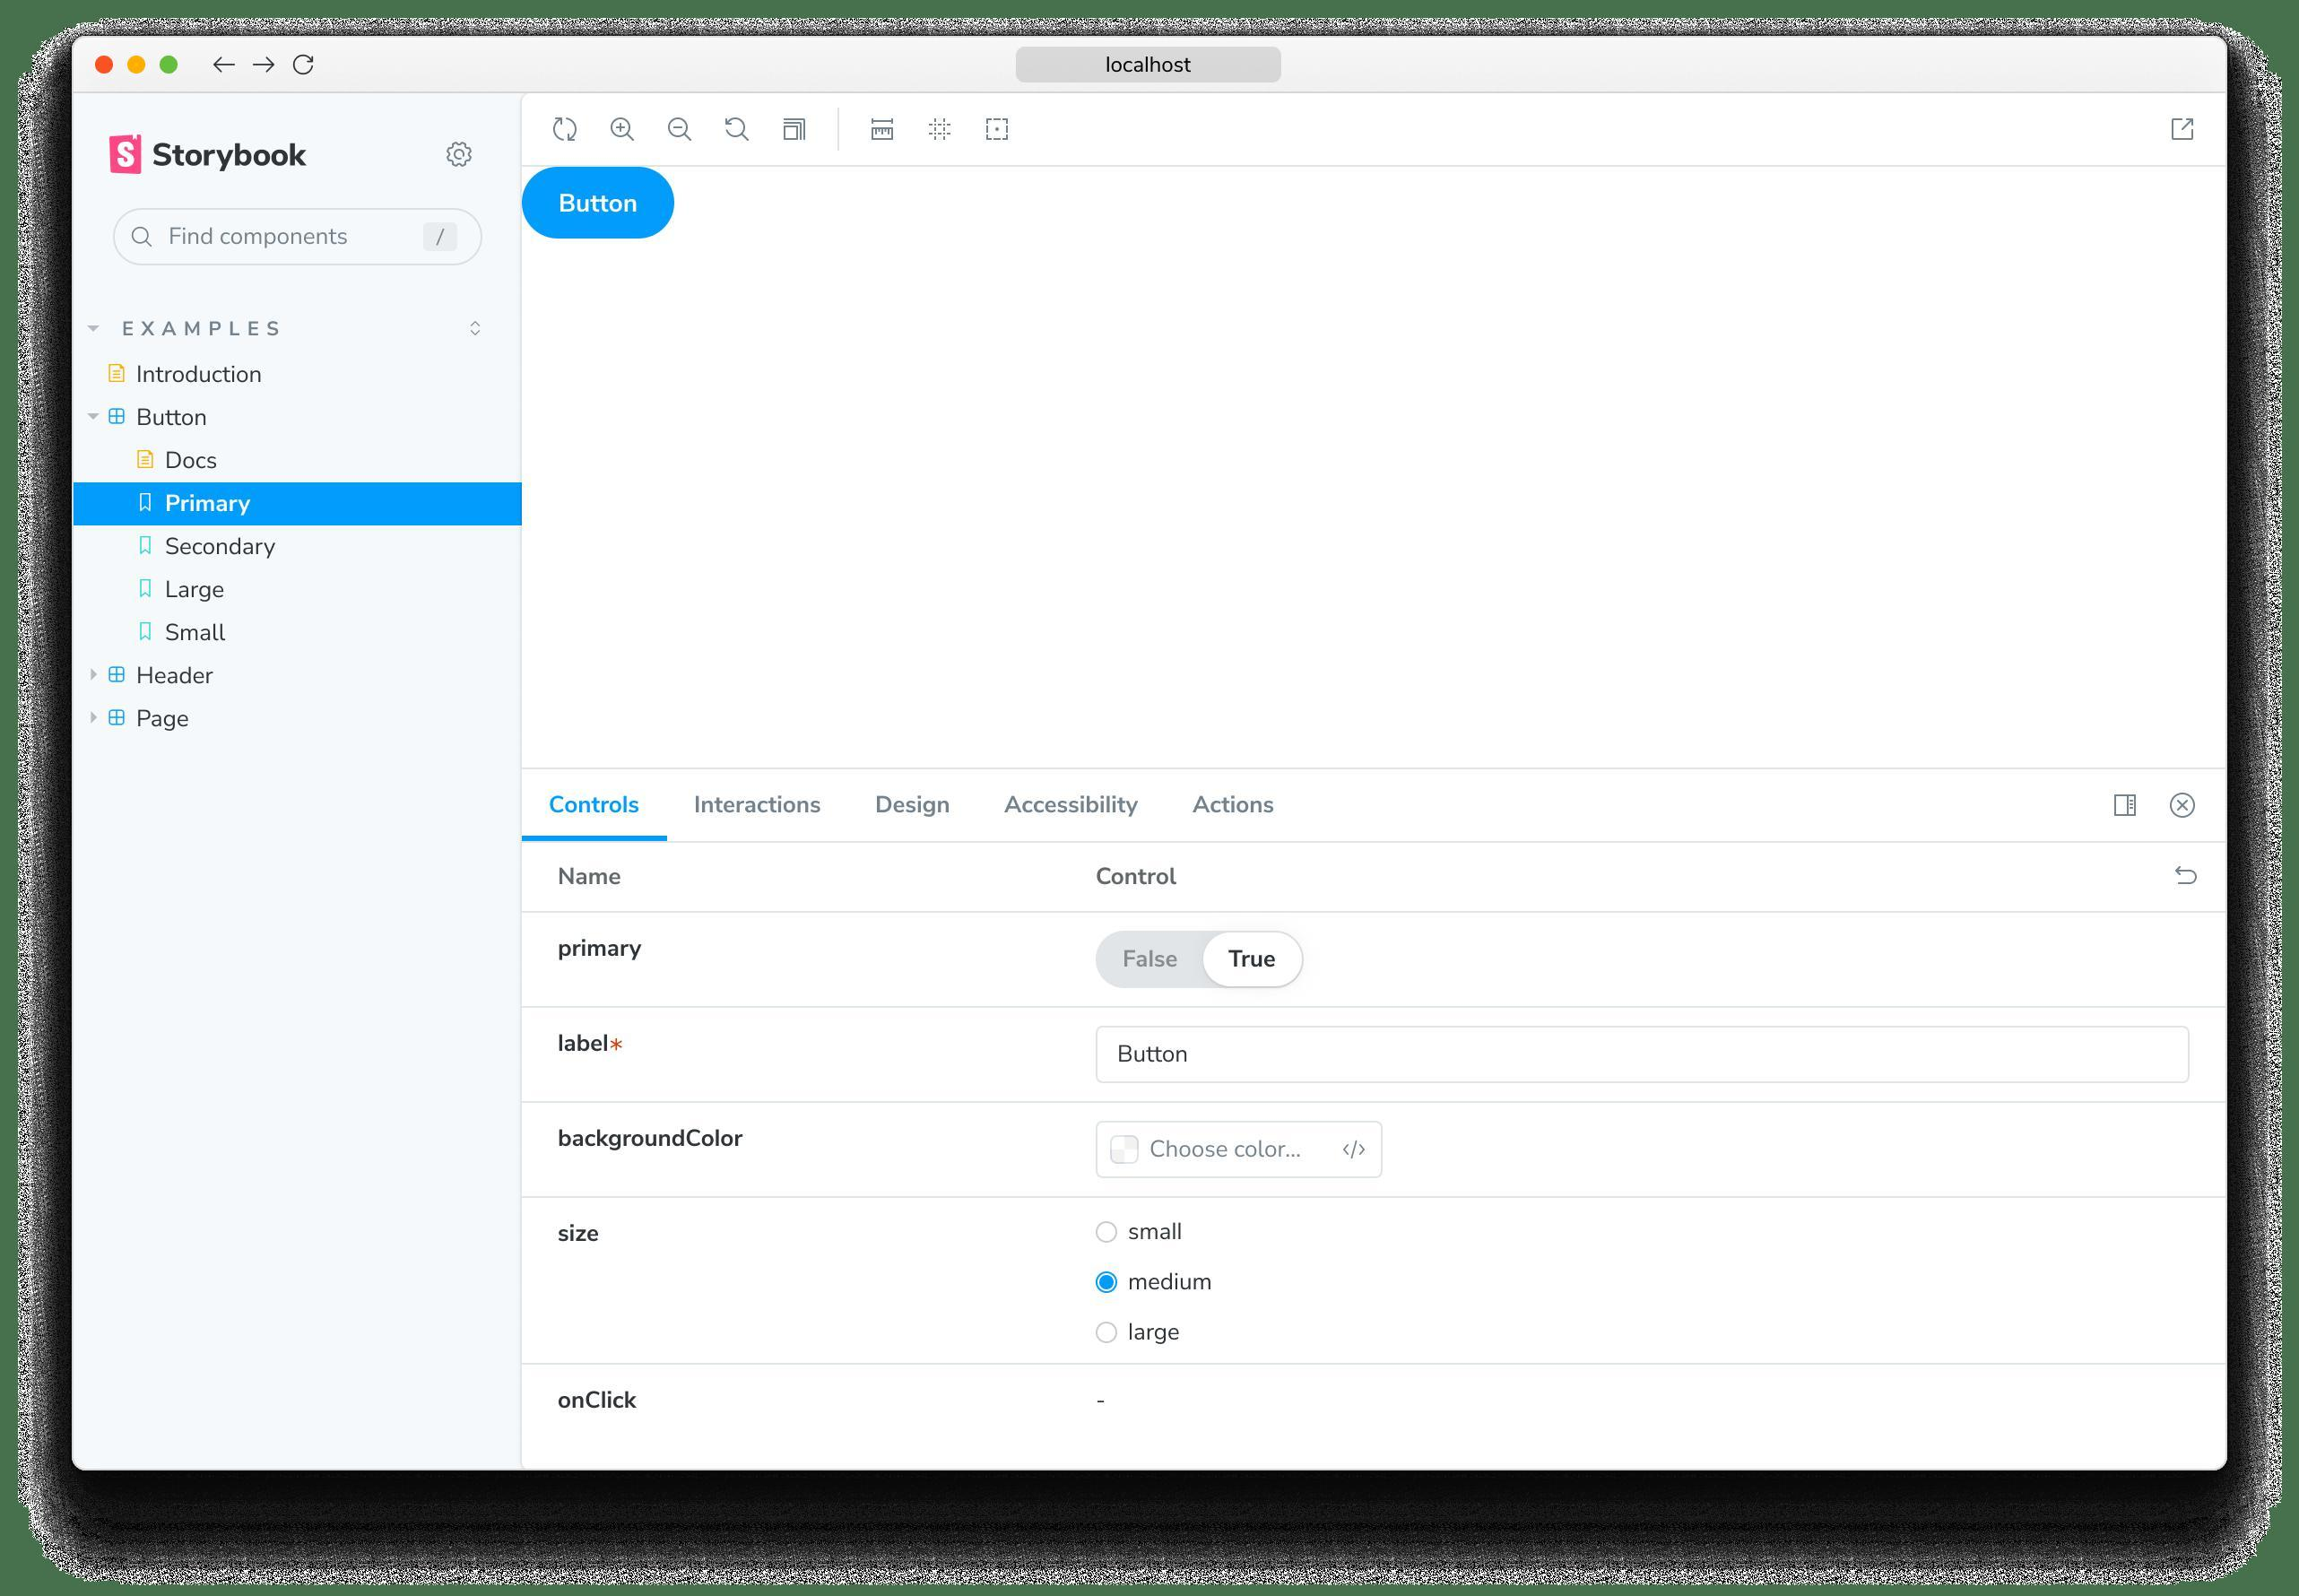button: (522, 169, 674, 241)
icon: (662, 112, 701, 150), (444, 136, 480, 175), (863, 115, 903, 150), (774, 112, 811, 148), (980, 112, 1018, 145), (721, 112, 755, 148), (924, 115, 961, 148), (2112, 788, 2145, 822), (552, 112, 585, 145), (2168, 110, 2199, 145), (2173, 859, 2203, 896), (610, 112, 638, 145), (2171, 788, 2196, 824), (131, 224, 155, 253), (136, 447, 155, 475), (108, 361, 129, 386), (107, 707, 128, 730), (108, 407, 128, 431), (107, 664, 126, 686), (138, 491, 154, 517), (138, 578, 154, 604), (138, 620, 154, 646), (140, 534, 154, 557)
input: (115, 208, 480, 265), (1095, 1121, 1380, 1177)
radio: (1095, 1322, 1120, 1346), (1095, 1222, 1118, 1247), (1095, 1271, 1120, 1294)
switch: (1101, 925, 1307, 992)
